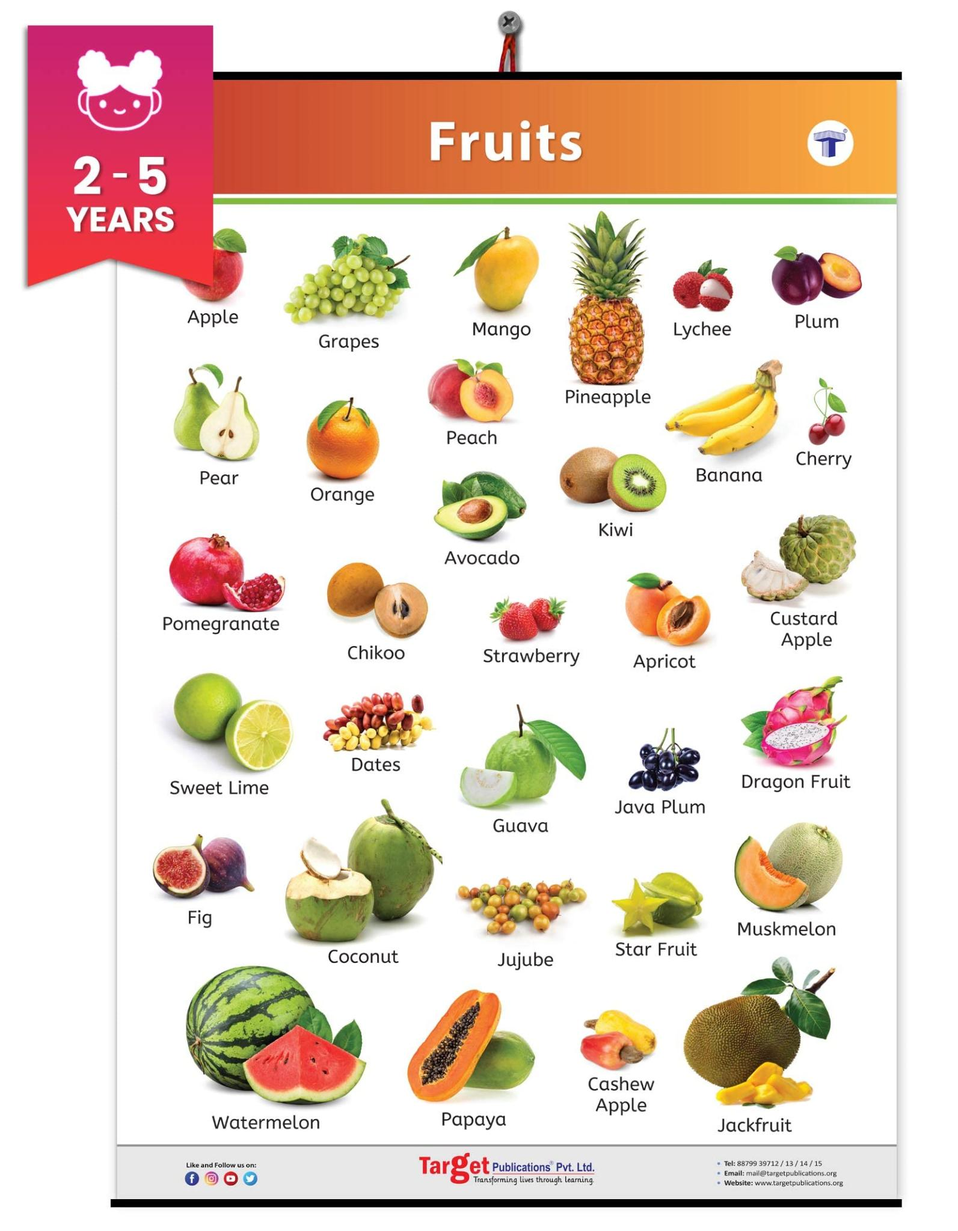chuoi: (661, 375, 781, 453)
xoai: (474, 228, 542, 313)
